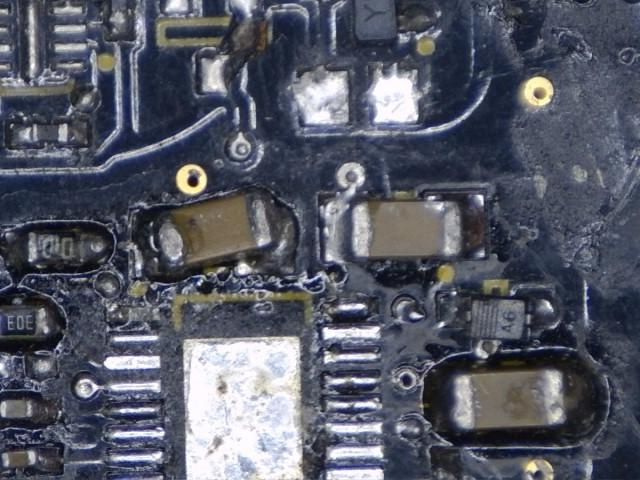pcb_defect: (134, 187, 299, 280), (191, 0, 264, 99), (319, 162, 372, 265)
